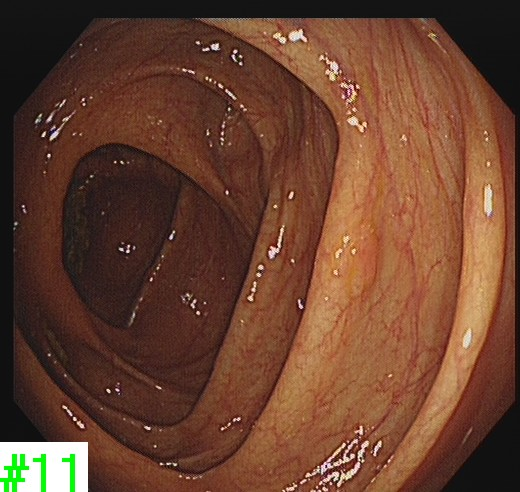adenoma: (321, 228, 381, 297)
